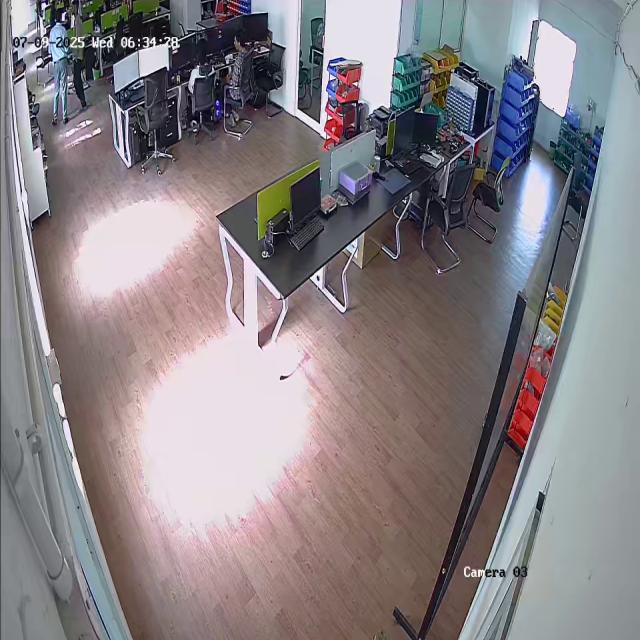person: (46, 11, 70, 125), (70, 0, 90, 110), (224, 31, 249, 93)
